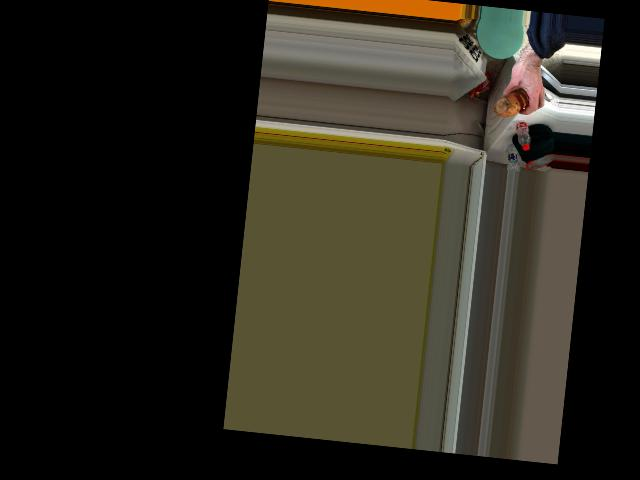sweet_potato: (494, 86, 527, 120)
